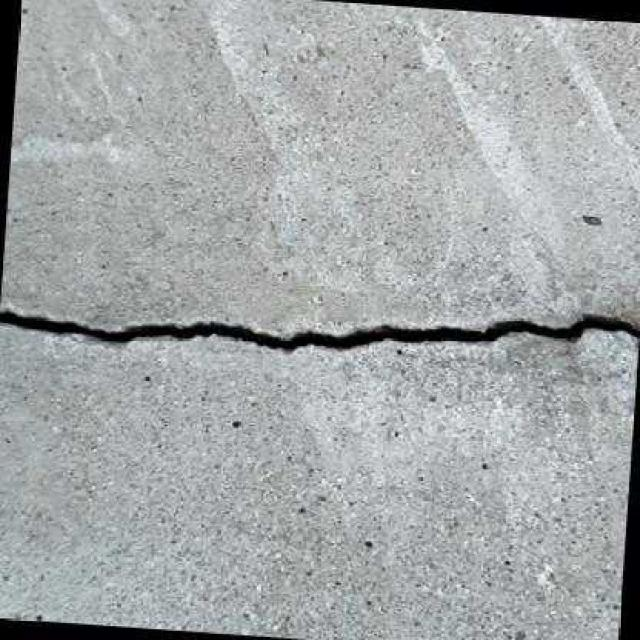D00: (0, 308, 640, 350)
